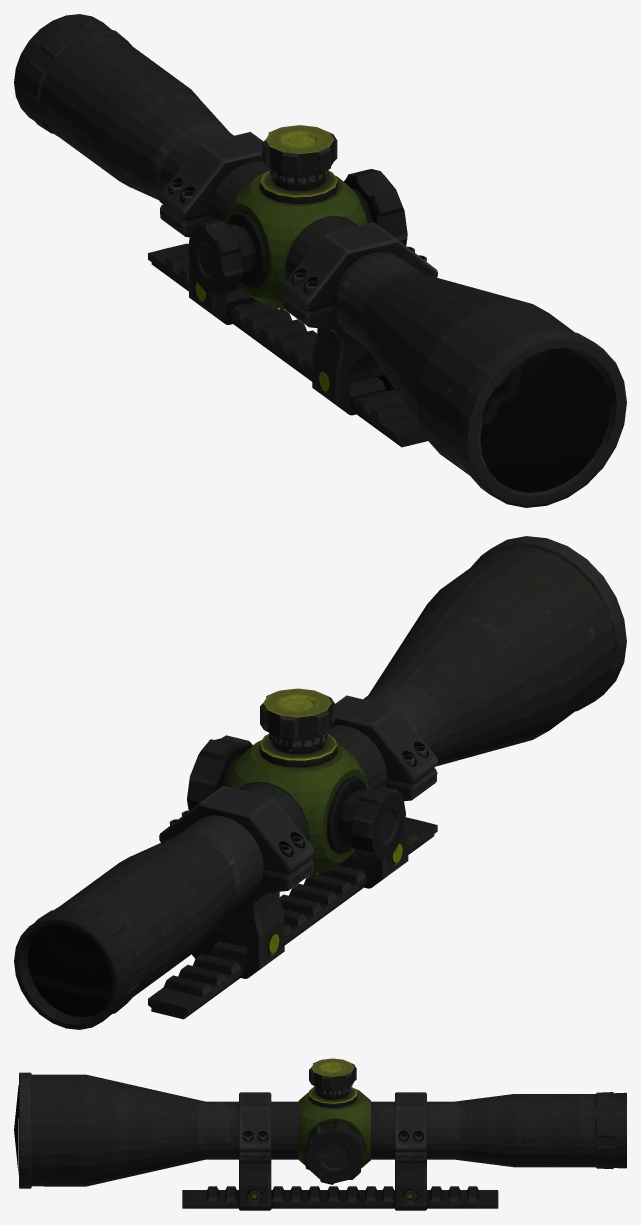
The model's file is ScopeModel.FBX.
3 renders of one model, top to bottom at view 1: azimuth 30°, elevation 25°; view 2: azimuth 150°, elevation 25°; view 3: azimuth 270°, elevation 25°, orthographic. The views are drawn at different scales.
Visible parts, largest first — view 1: Object001; view 2: Object001; view 3: Object001.
Boxes of the visible parts, left/top/right/bottom form: Object001: left=14, top=14, right=626, bottom=507; Object001: left=14, top=536, right=626, bottom=1029; Object001: left=14, top=1058, right=626, bottom=1210.
Size of the model in its own units: 2.78 by 3.21 by 13.08.
Materials: 1 (1 with a texture image).
